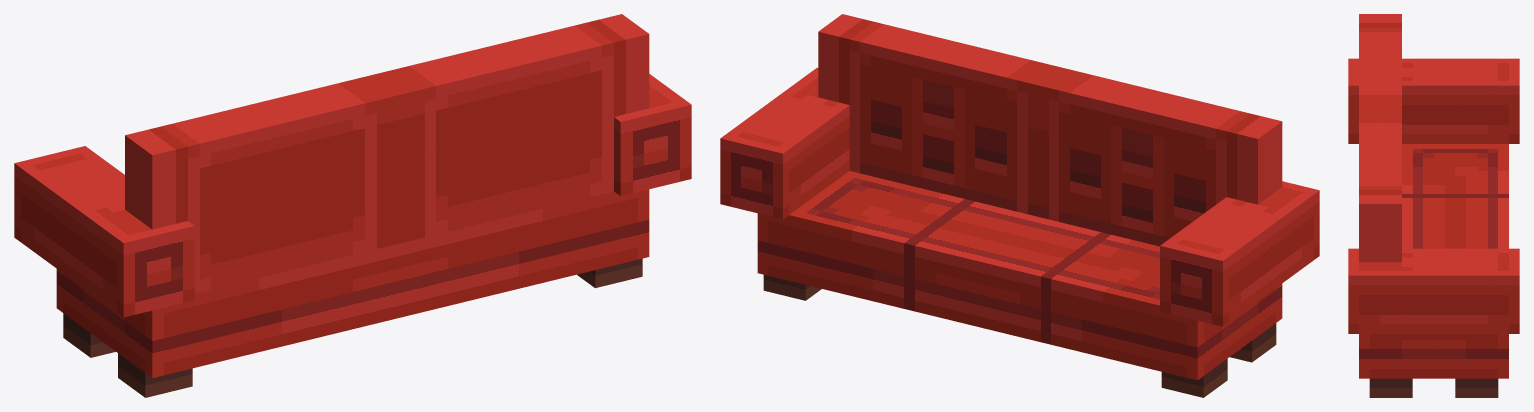
The model's file is couch.gltf.
3 views of the same model, side by side, from view 1: azimuth 30°, elevation 25°; view 2: azimuth 150°, elevation 25°; view 3: azimuth 270°, elevation 25° (orthographic). The views are drawn at different scales.
Parts seen in each view (by area): view 1: cube (×7); view 2: cube (×7); view 3: cube (×6).
Boxes of the visible parts, box(x1,y1,x2,y2) form: cube (×7): box(14, 14, 691, 397); cube (×7): box(720, 14, 1319, 397); cube (×6): box(1348, 14, 1519, 397).
Size of the model in its own units: 3 by 1.25 by 1.
1 material, 1 textured.
